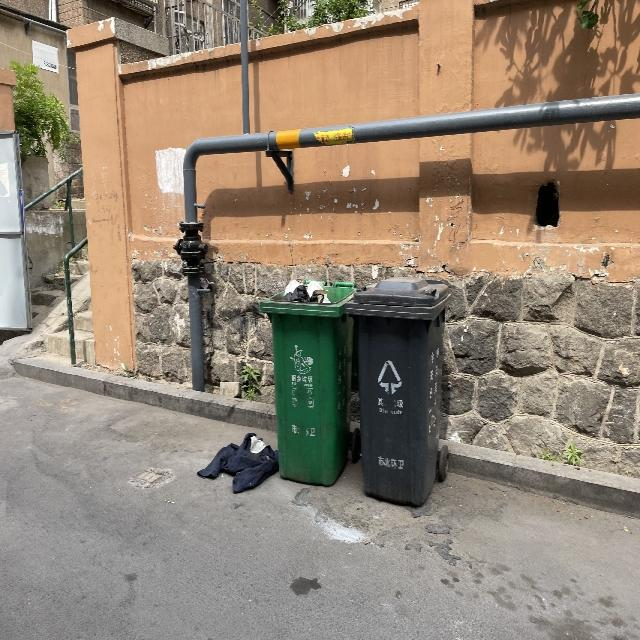garbage: (196, 433, 278, 493)
garbage_bin: (344, 276, 451, 505)
overflow: (259, 278, 355, 486)
